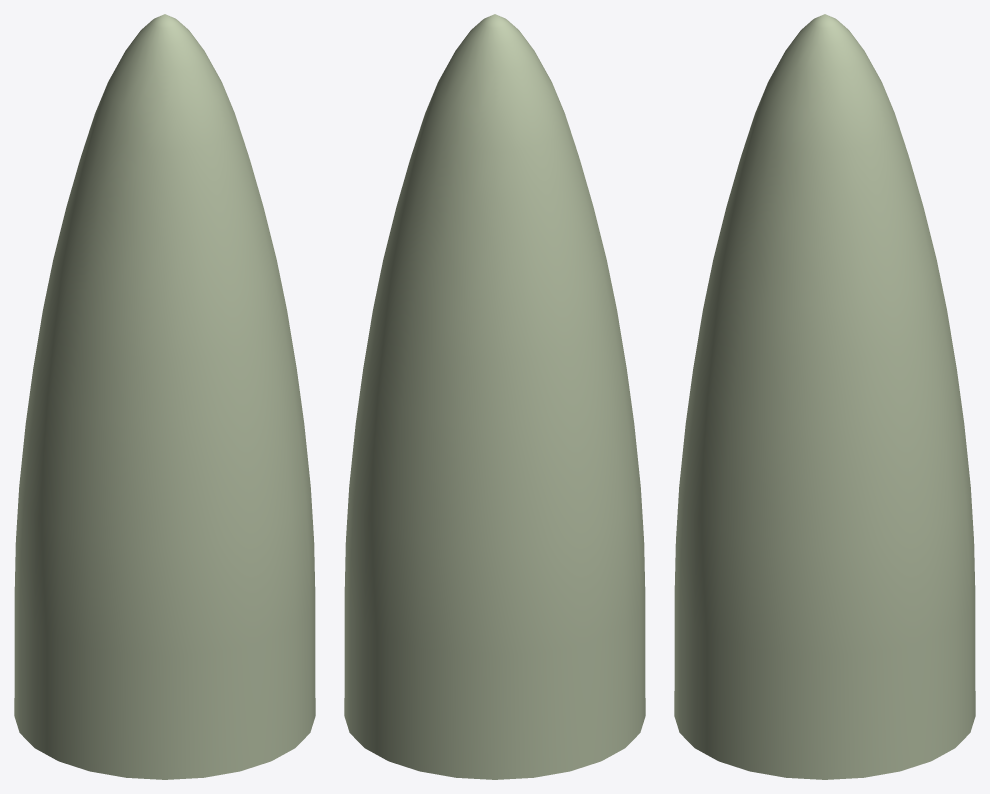
File: CalocedrusDecurrens.glb
3 views of the same model, side by side, from view 1: azimuth 30°, elevation 25°; view 2: azimuth 150°, elevation 25°; view 3: azimuth 270°, elevation 25° (orthographic).
Parts seen in each view (by area): view 1: California_Incense_Cedar__Schematic_LOD3; view 2: California_Incense_Cedar__Schematic_LOD3; view 3: California_Incense_Cedar__Schematic_LOD3.
Boxes of the visible parts, <box> form: California_Incense_Cedar__Schematic_LOD3: <box>14,14,315,779</box>; California_Incense_Cedar__Schematic_LOD3: <box>344,14,645,779</box>; California_Incense_Cedar__Schematic_LOD3: <box>674,14,975,779</box>.
Size of the model in its own units: 7.7 by 20.95 by 7.7.
